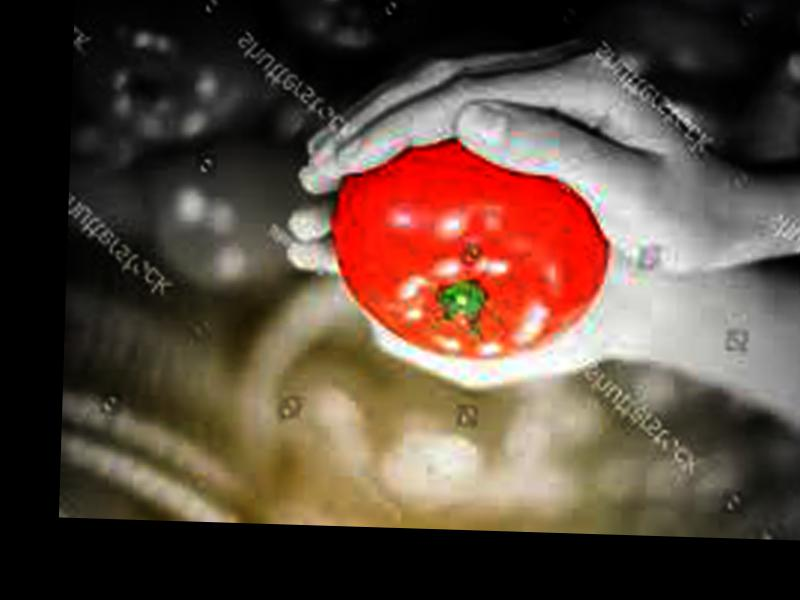Tomato: (330, 137, 611, 361)
